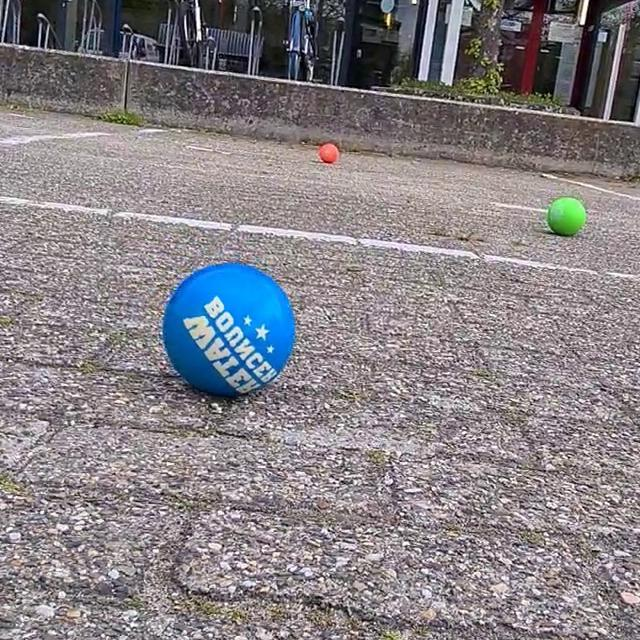ball: (545, 194, 588, 236), (318, 138, 340, 167)
